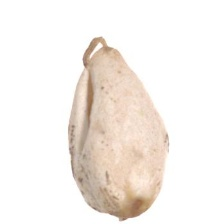L1: (82, 35, 114, 85), (105, 197, 154, 221)
L2: (68, 36, 169, 221)
